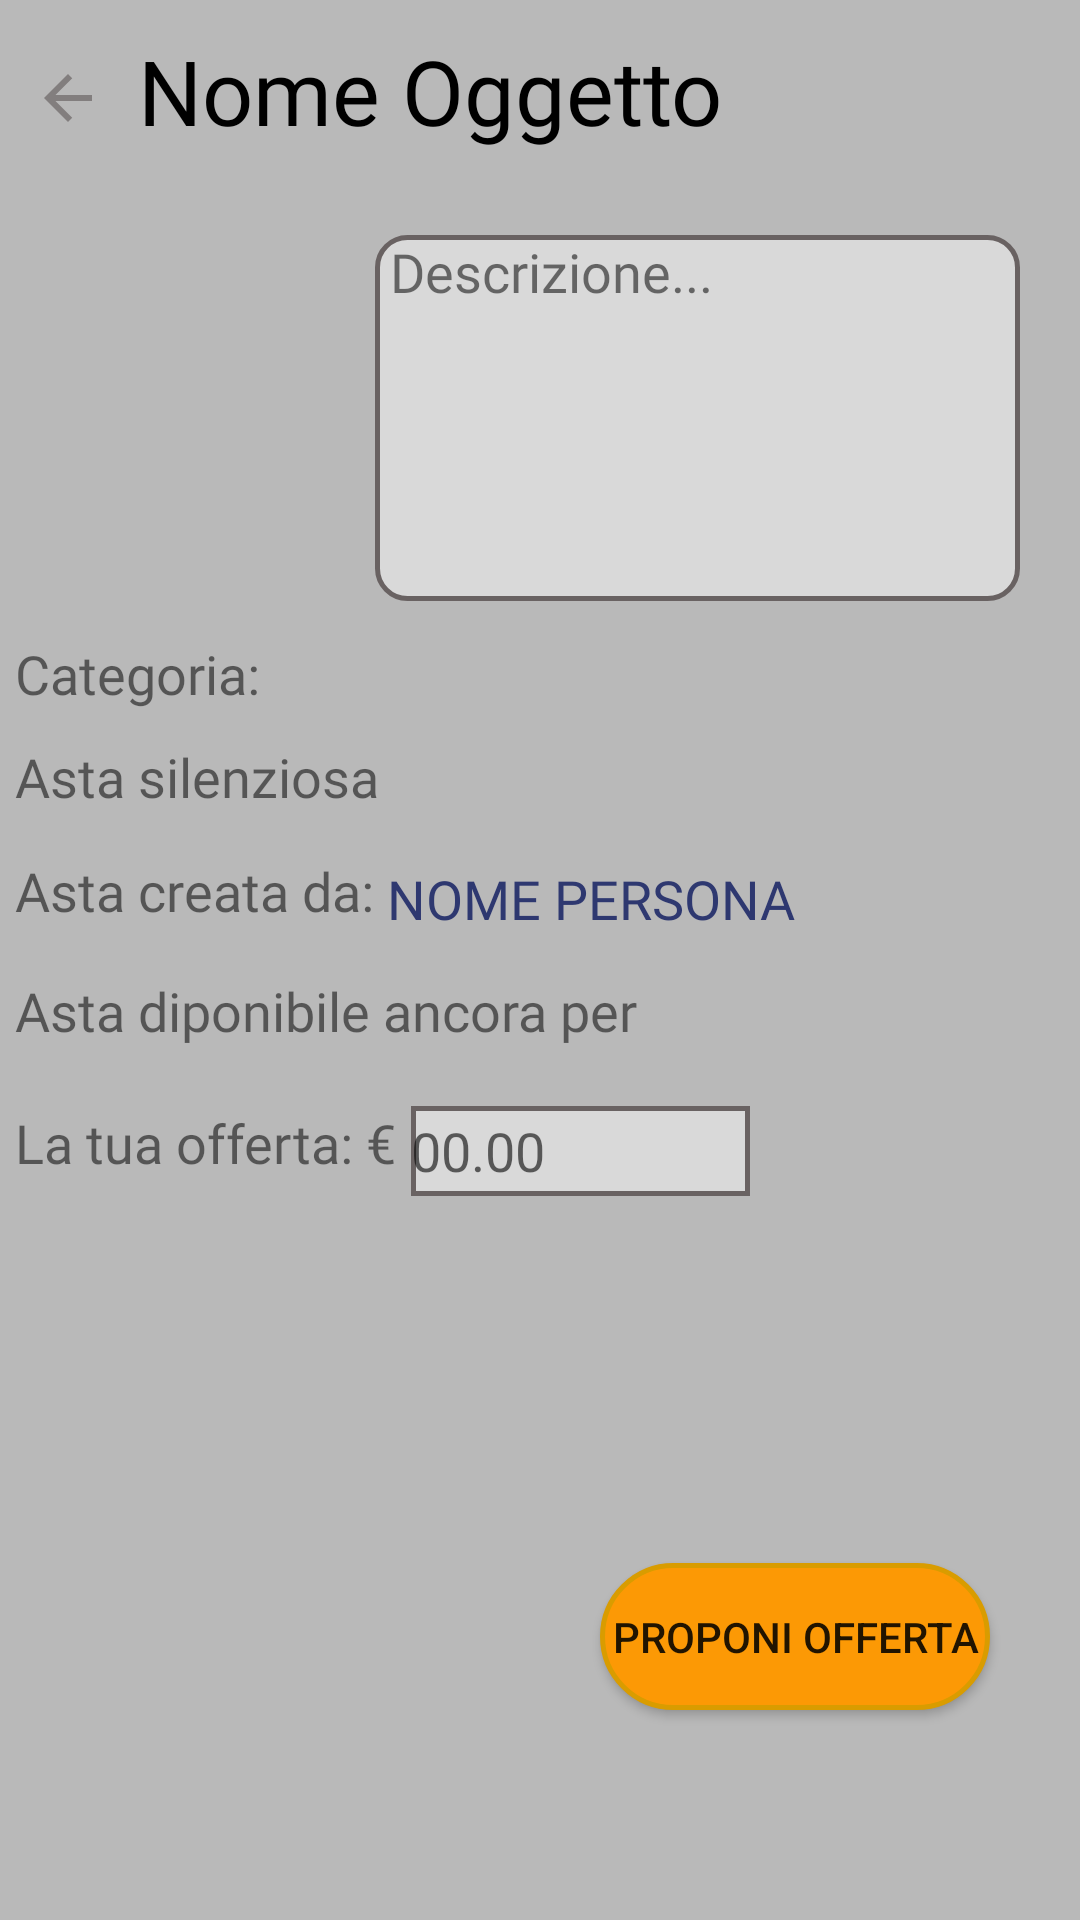

Named icons in this screenshot (1080 × 1920) and their centers, (x=x, y=y):
Indietro: (x=68, y=98)
